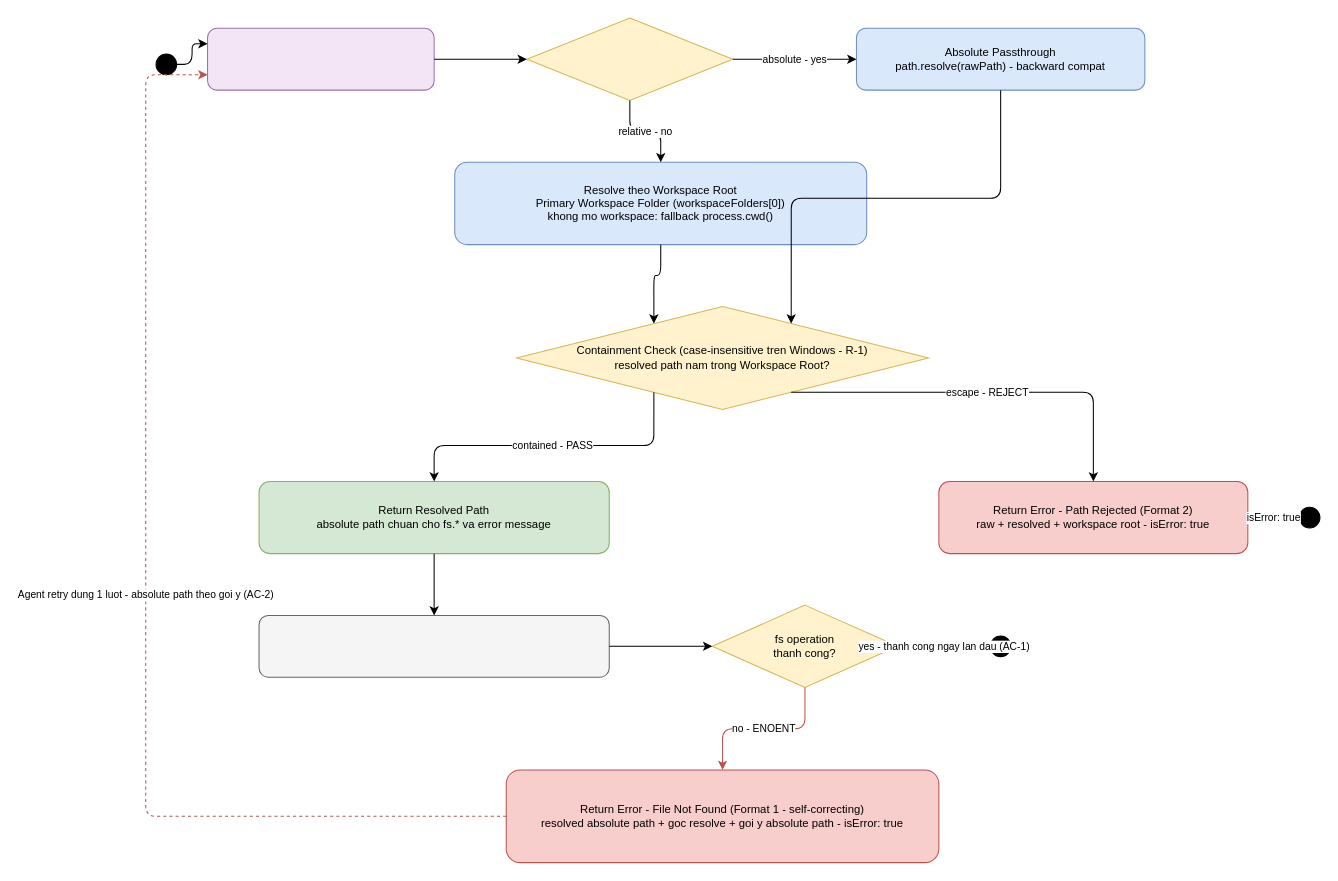
This 1338x881 diagram has some shape labels left out. The centre of each missing label's shape, as x and y in pixels:
"path.isAbsolute(rawPath)?" belongs at point 629,58.
"Raw Path Received (file_path tu tool call - chua tin dung)" belongs at point 320,58.
"Tool thuc hien fs operation (readFile / writeFile / attach / export)" belongs at point 433,645.
